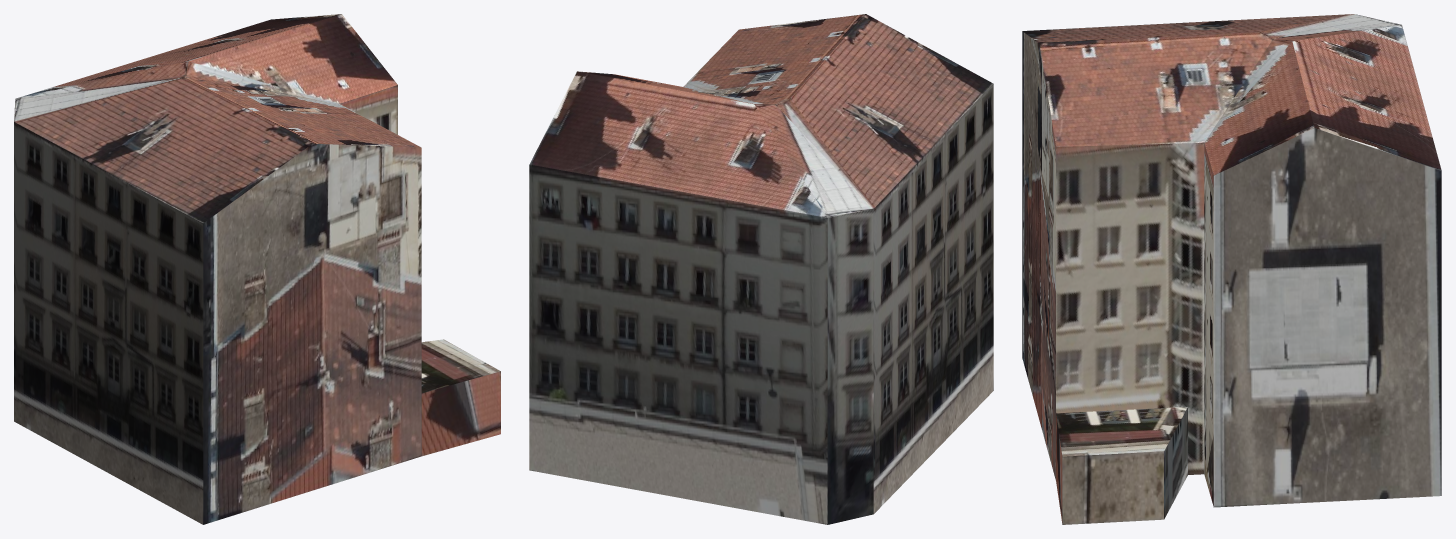
3 views of the same model, side by side, from view 1: azimuth 30°, elevation 25°; view 2: azimuth 150°, elevation 25°; view 3: azimuth 270°, elevation 25° (orthographic). The views are drawn at different scales.
Parts seen in each view (by area): view 1: Z_UP; view 2: Z_UP; view 3: Z_UP.
Part boxes in pixels (x1=…): Z_UP: x1=14, y1=14, x2=500, y2=524; Z_UP: x1=529, y1=14, x2=993, y2=524; Z_UP: x1=1022, y1=14, x2=1441, y2=524.
Bounding box in the file's own units: 23.62 × 22.24 × 22.49.
Materials: 2 (1 with a texture image).
